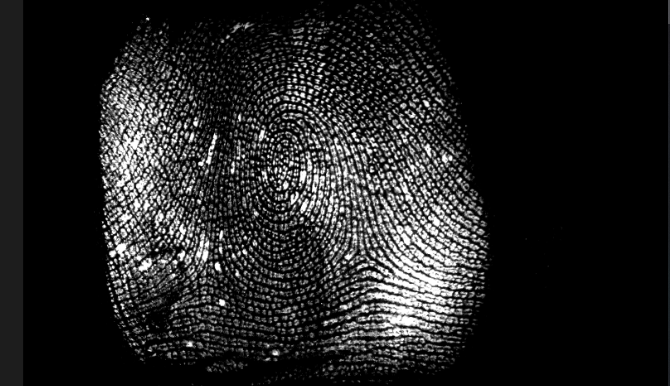nucelo: (265, 134, 293, 186)
verticilo: (343, 239, 385, 272), (195, 245, 225, 282)
